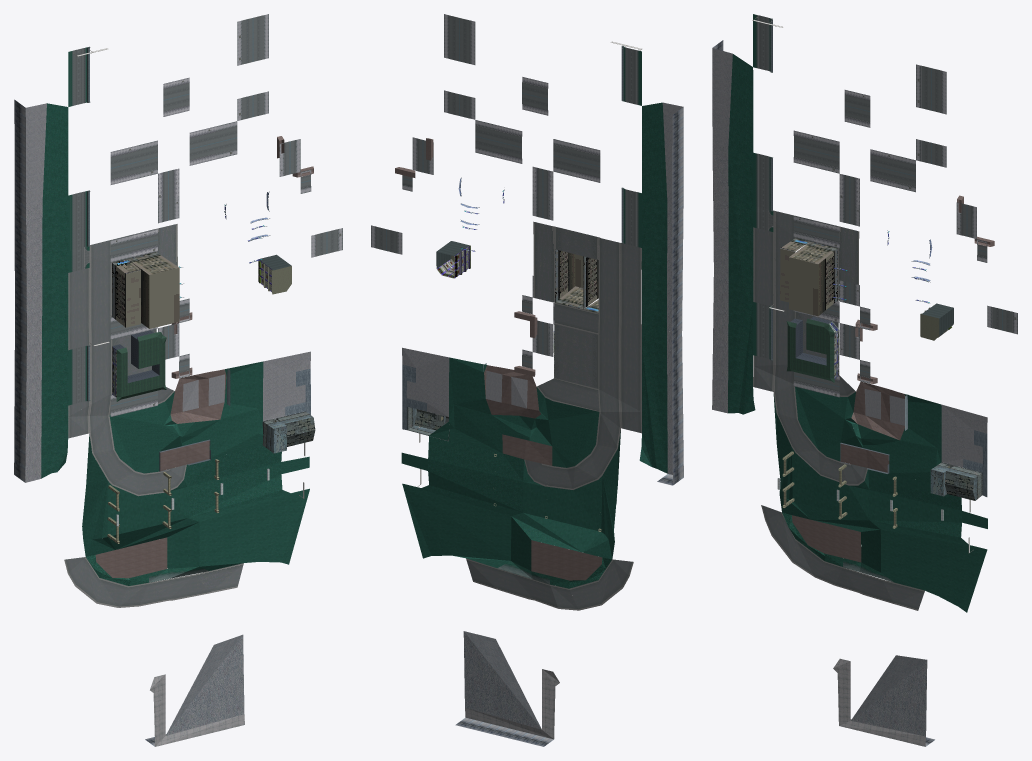
The model's file is industsw_industsw__part_04.obj.
3 renders of one model, left to right at view 1: azimuth 30°, elevation 25°; view 2: azimuth 150°, elevation 25°; view 3: azimuth 330°, elevation 25°, orthographic. The views are drawn at different scales.
Visible parts, largest first — view 1: industsw_industsw__part_04; view 2: industsw_industsw__part_04; view 3: industsw_industsw__part_04.
Part boxes in pixels (x1,y1,x2,y2): industsw_industsw__part_04: [14, 14, 342, 746]; industsw_industsw__part_04: [371, 14, 683, 746]; industsw_industsw__part_04: [712, 14, 1017, 746].
Size of the model in its own units: 301 by 649 by 54.79.
Materials: 96 (96 with a texture image).
